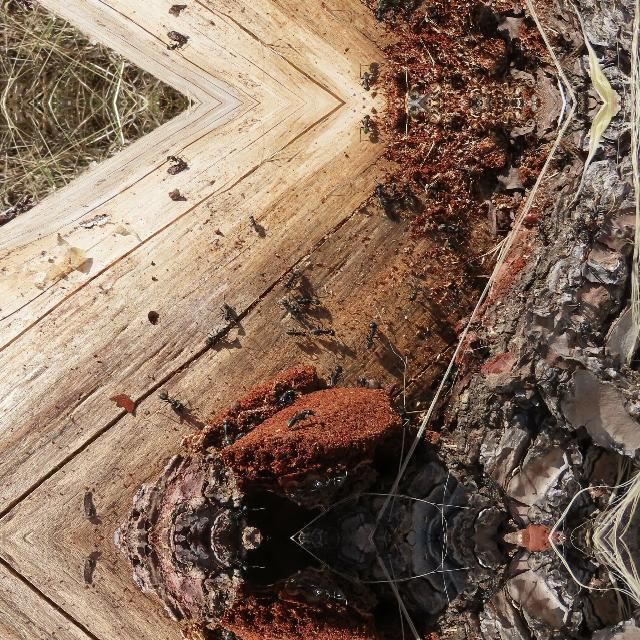Camponotus: (306, 467, 354, 493), (306, 582, 354, 608), (154, 391, 192, 421), (285, 402, 315, 430), (360, 318, 386, 349), (306, 318, 338, 340), (242, 209, 264, 237), (208, 320, 230, 348), (293, 286, 319, 308), (280, 262, 302, 288), (276, 298, 304, 318), (325, 362, 345, 390), (216, 414, 232, 446), (283, 324, 309, 341), (164, 150, 186, 164), (164, 40, 186, 54), (278, 387, 294, 405), (220, 300, 233, 322), (216, 628, 232, 640)
